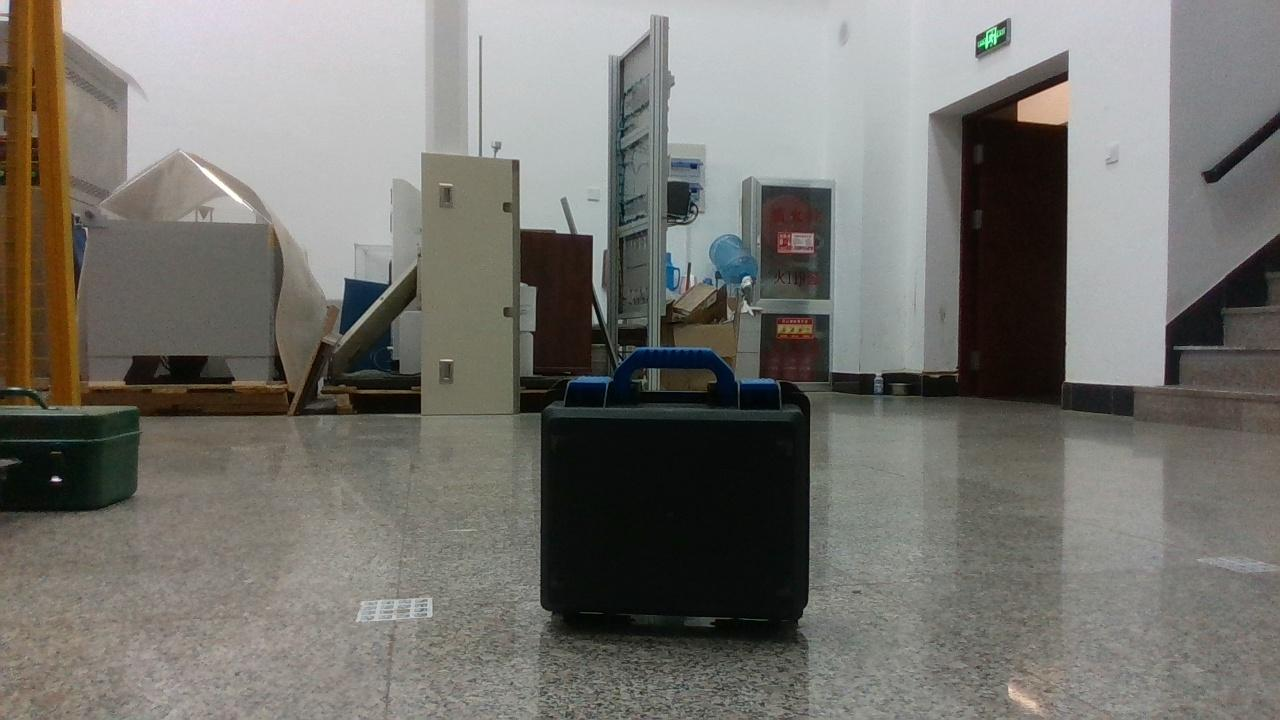toolkit: (540, 348, 810, 621)
